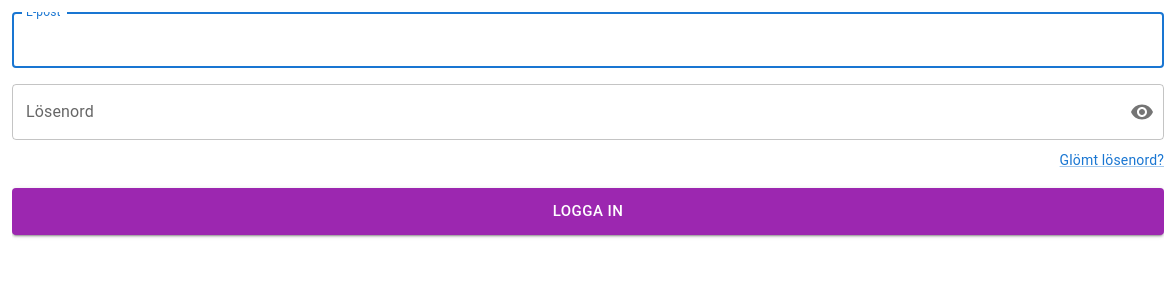
Test: LoginForm › should show validation error for invalid email
Type "invalid-email" into the field labelled "E-post" at (588, 40), box [12,12,1164,68]
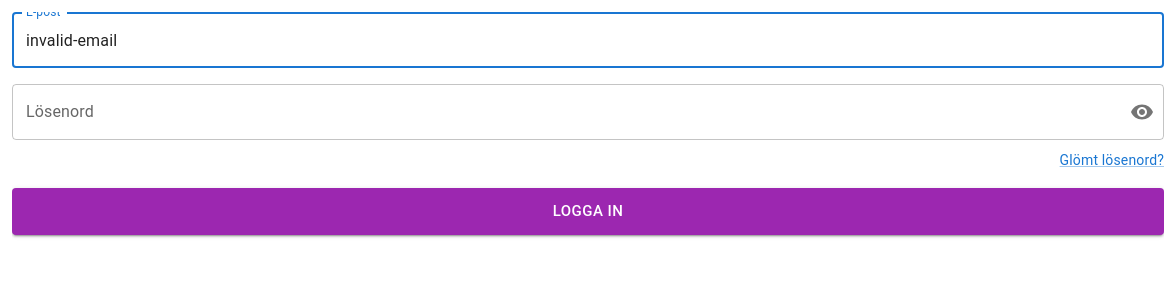
Click the button "Logga in" at (588, 212), box [12,188,1164,235]
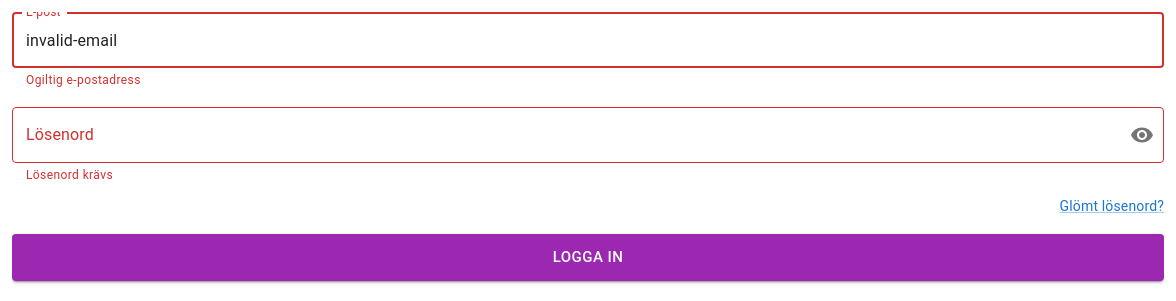
expect the text "Ogiltig e-postadress" is shown: met, box [26,73,141,87]
